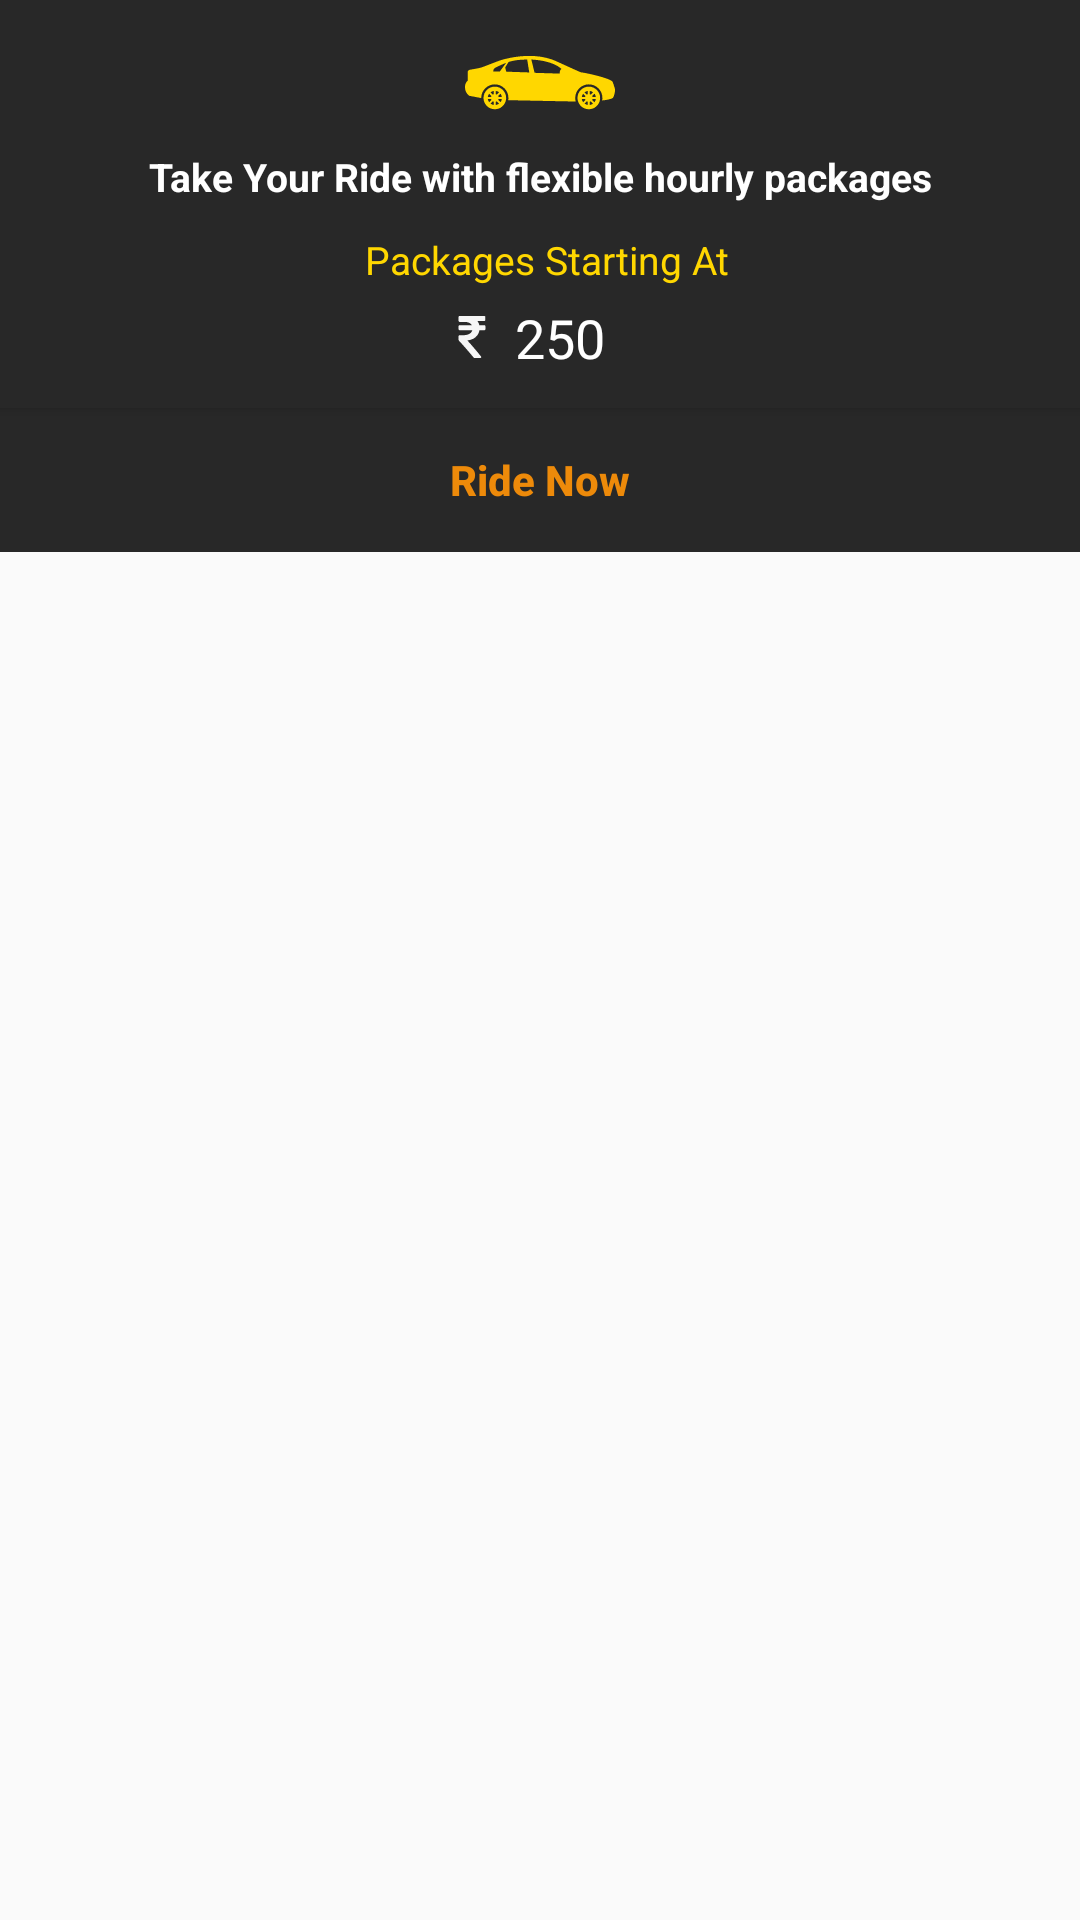

Where icons sit on this 1080px x 1920px app screen, as box=[x1, y1, x2, y2]:
out car model: box=[465, 56, 615, 110]
